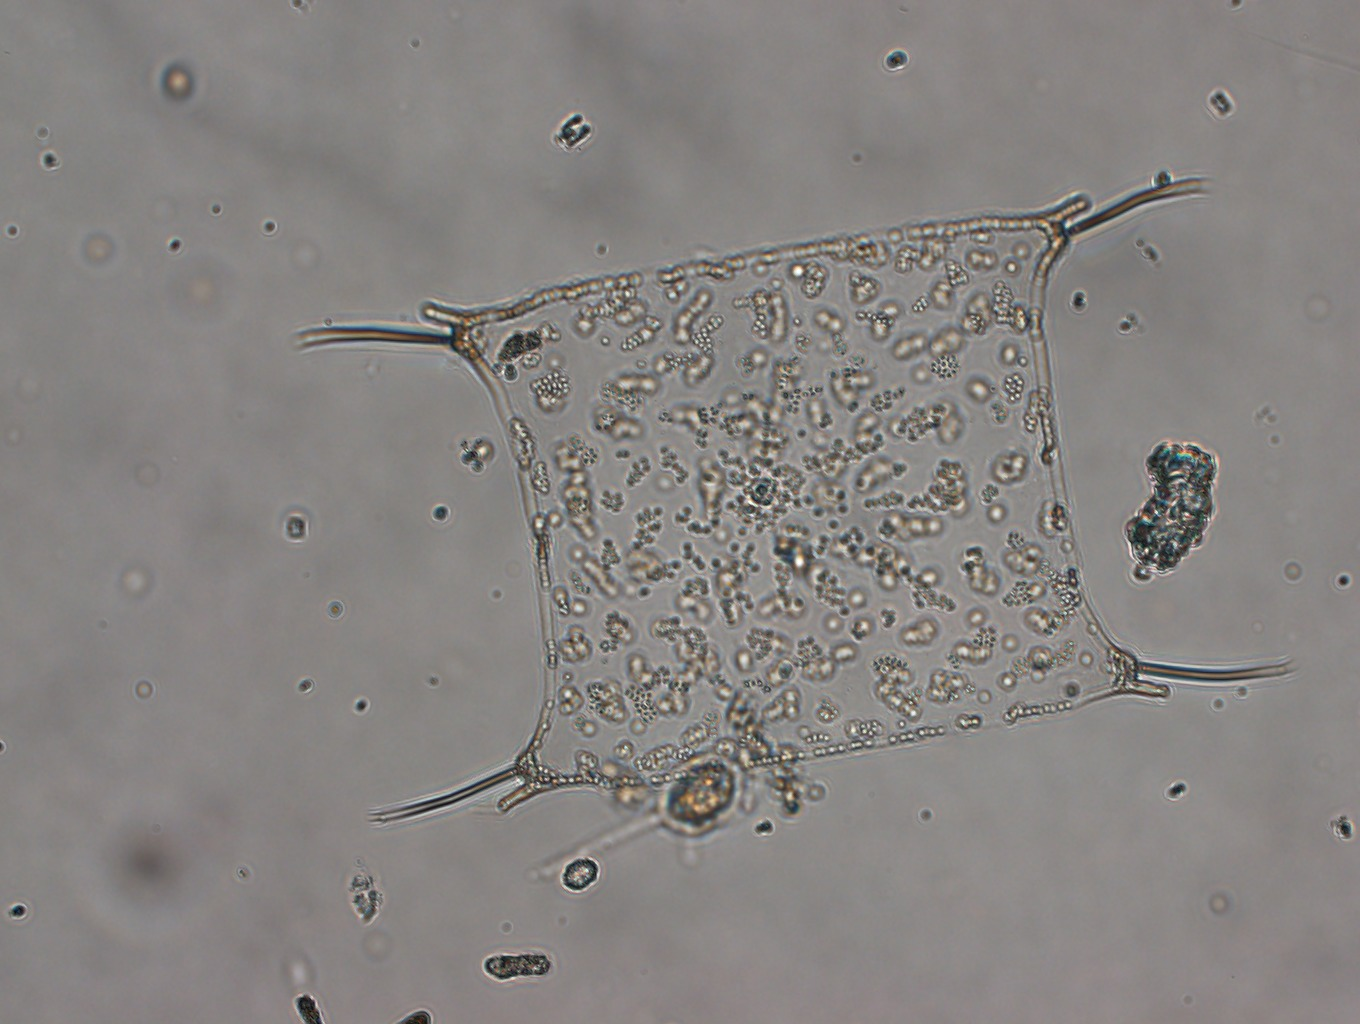biddulphia: (287, 162, 1306, 843)
